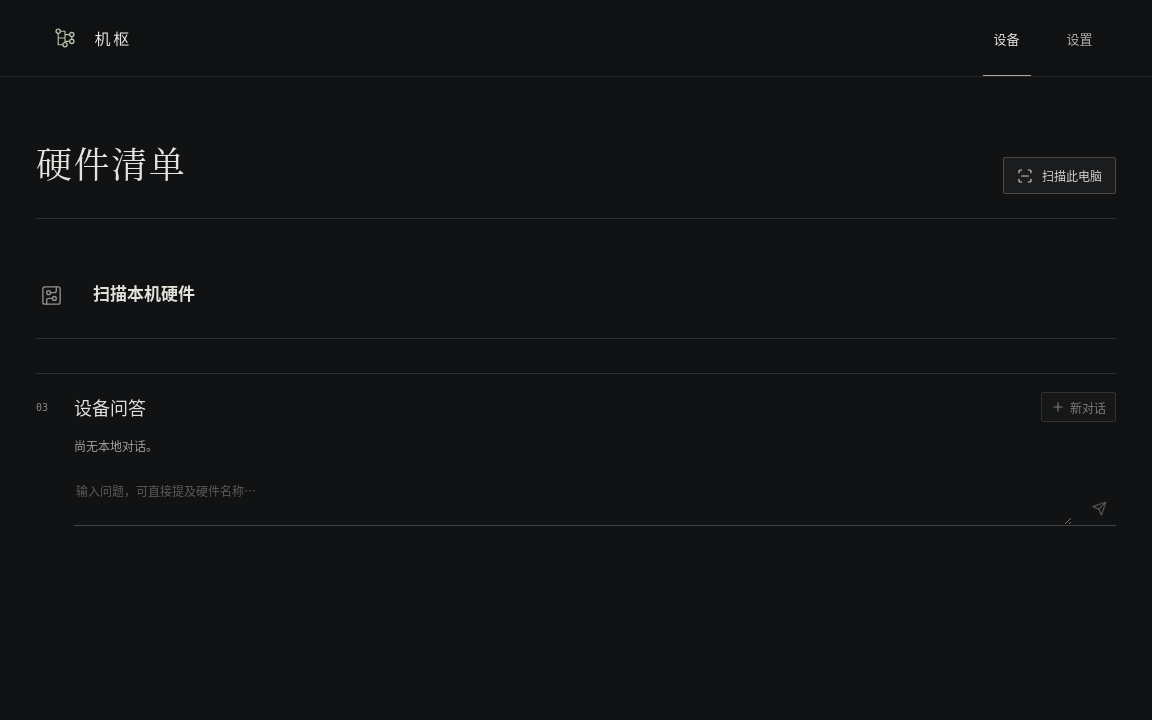
Test case: CoreScope application shell › requires explicit confirmation before clearing AI and chat cache
Click the tab "设置": (1080, 38) [1056,0,1104,76]
(page scrolled)
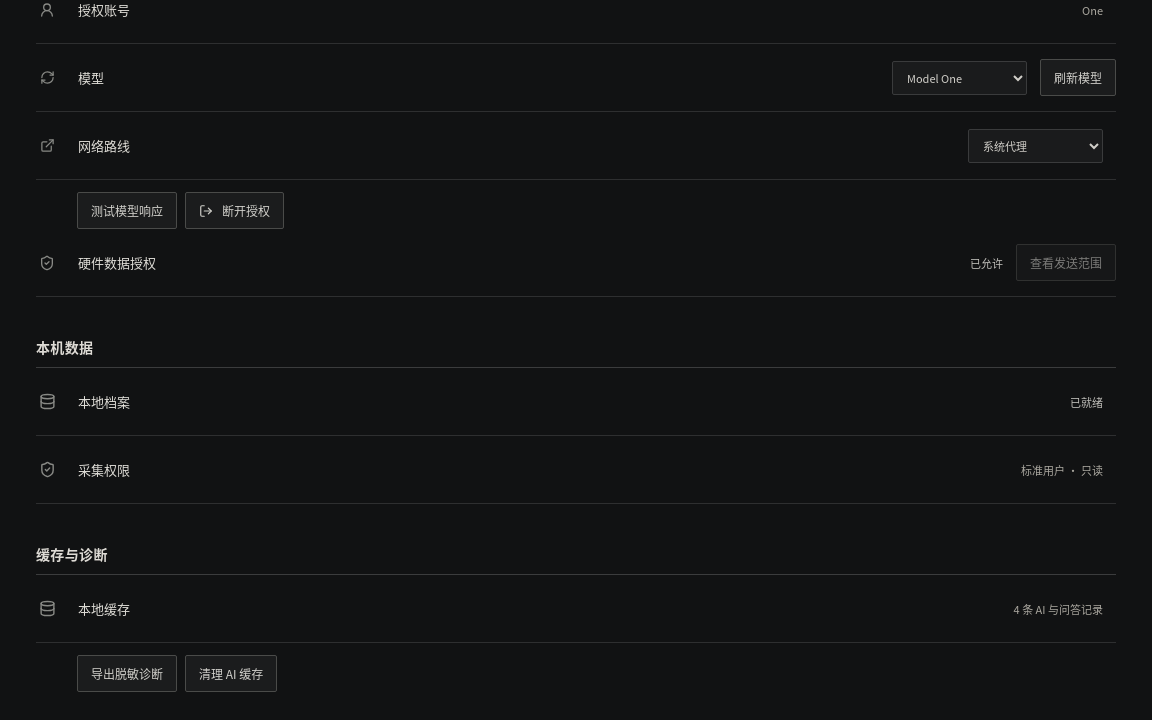
Check: the text "4 条 AI 与问答记录" is shown, box [1014,600,1103,616]
Click the button with class "clear-cache-button": (231, 674) [185,655,277,692]
(page scrolled)
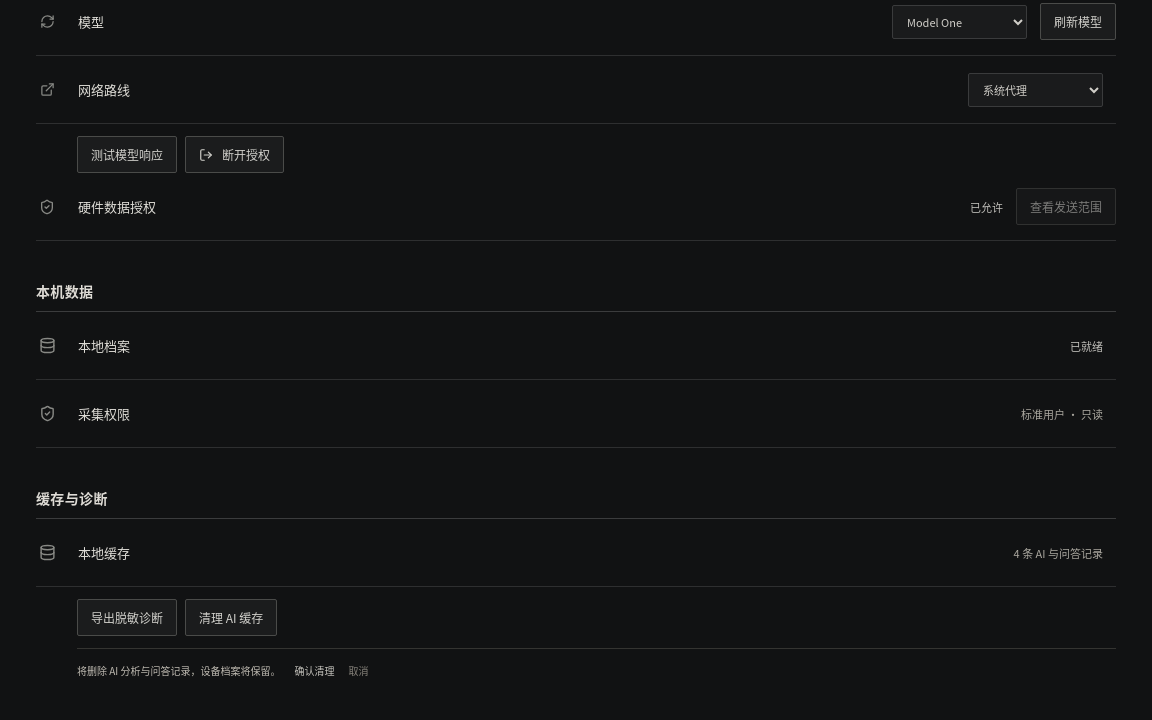
Check: the text "设备档案将保留" is shown, box [77,663,280,678]
Click the button with class "confirm-clear-button": (314, 670) [294,659,334,682]
(page scrolled)
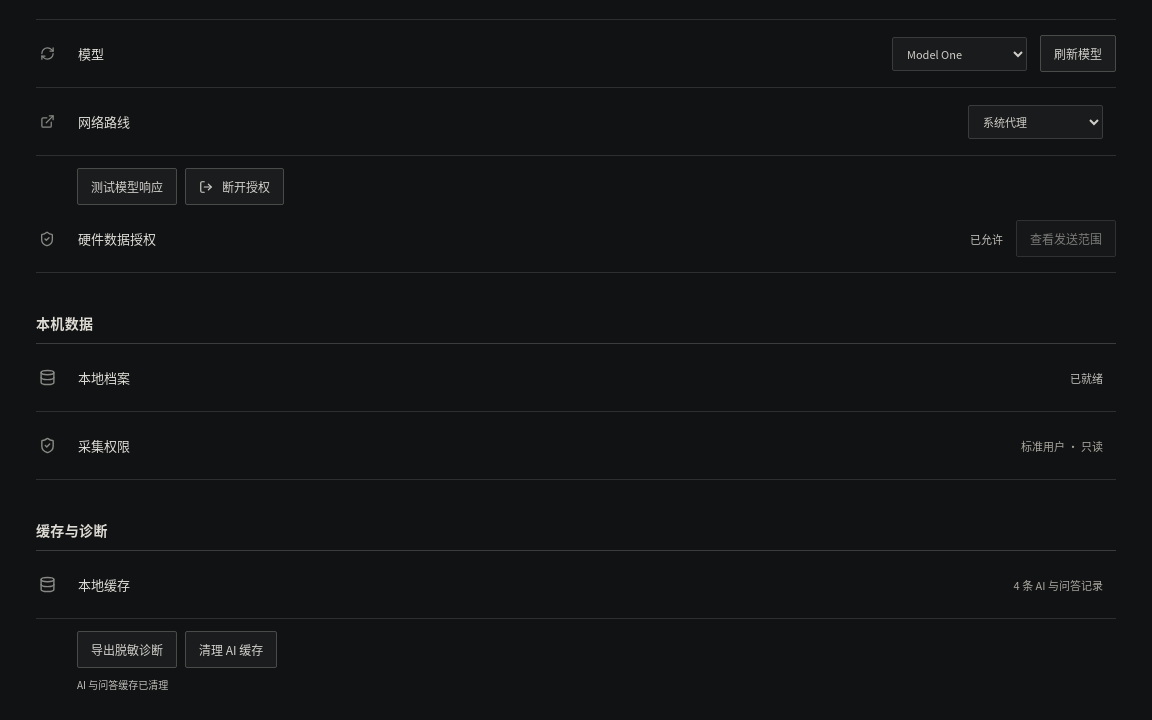
Check: the text "AI 与问答缓存已清理" is shown, box [77,677,168,692]
